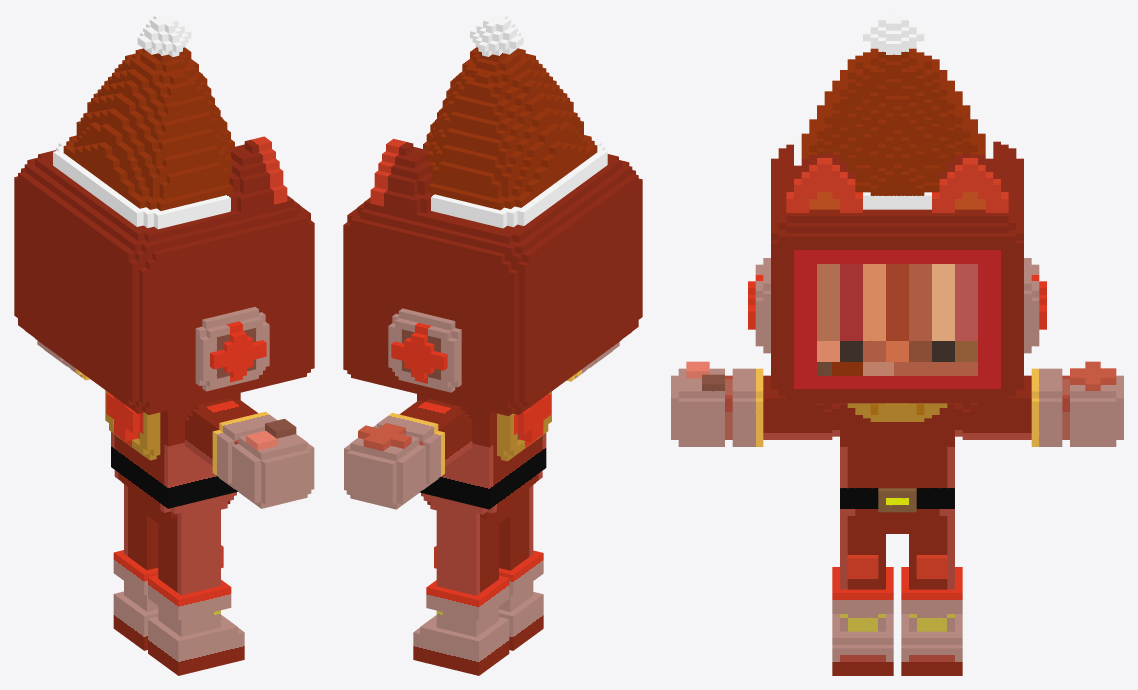
File: 圣诞电视人皮肤_4.gltf
3 renders of one model, left to right at view 1: azimuth 30°, elevation 25°; view 2: azimuth 150°, elevation 25°; view 3: azimuth 270°, elevation 25°, orthographic.
Visible parts, largest first — view 1: Object; view 2: Object; view 3: Object.
Part boxes in pixels (x1,y1,x2,y2): Object: (14, 14, 314, 675); Object: (343, 14, 642, 675); Object: (671, 14, 1123, 675).
Size of the model in its own units: 27 by 91 by 59.
Materials: 1 (1 with a texture image).
